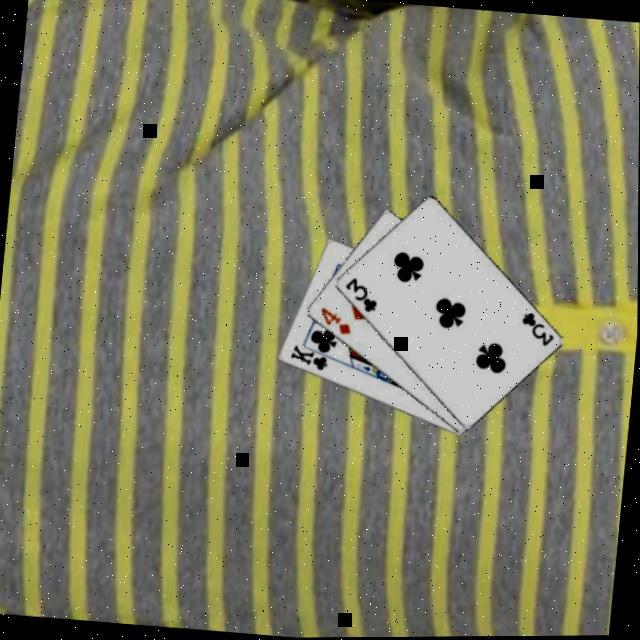3C: (340, 273, 382, 315), (518, 308, 560, 349)
4D: (316, 303, 356, 337)
KC: (288, 338, 338, 372)
